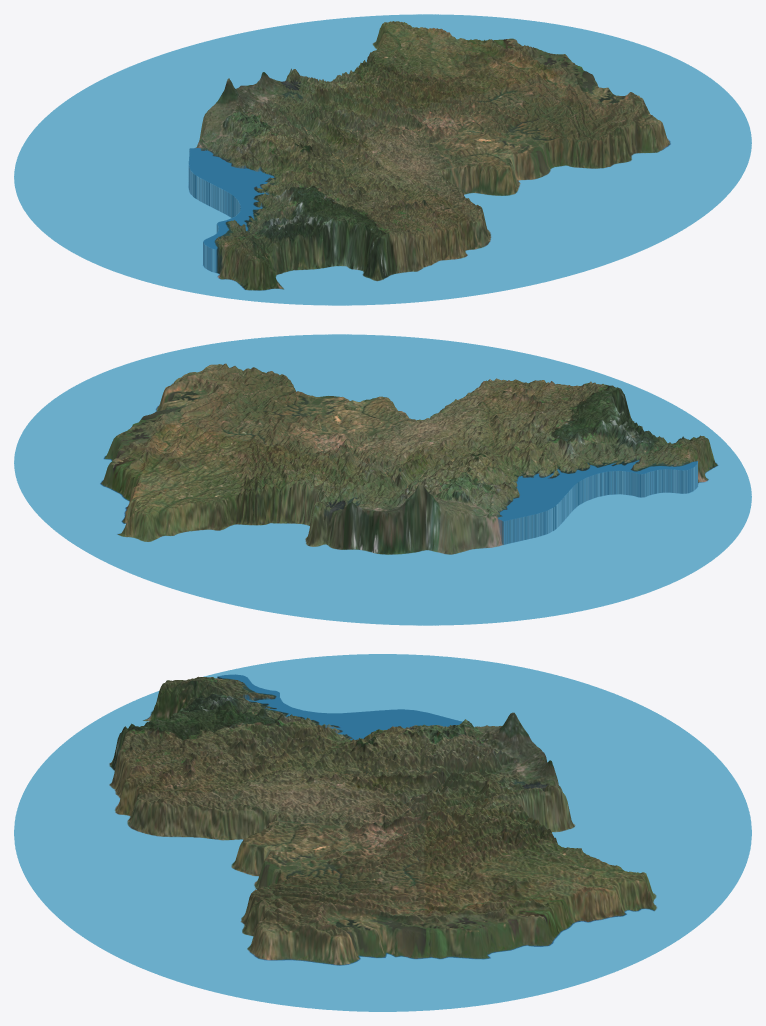
The model's file is RWA-previa-terrain.glb.
3 renders of one model, top to bottom at view 1: azimuth 30°, elevation 25°; view 2: azimuth 150°, elevation 25°; view 3: azimuth 270°, elevation 25°, orthographic. The views are drawn at different scales.
Parts seen in each view (by area): view 1: Ruanda; view 2: Ruanda; view 3: Ruanda.
Boxes of the visible parts, box(x1,y1,x2,y2) form: Ruanda: box(14, 14, 751, 305); Ruanda: box(14, 334, 751, 625); Ruanda: box(14, 654, 751, 1011).
Size of the model in its own units: 2.37 by 0.2124 by 2.06.
1 material, 1 textured.
